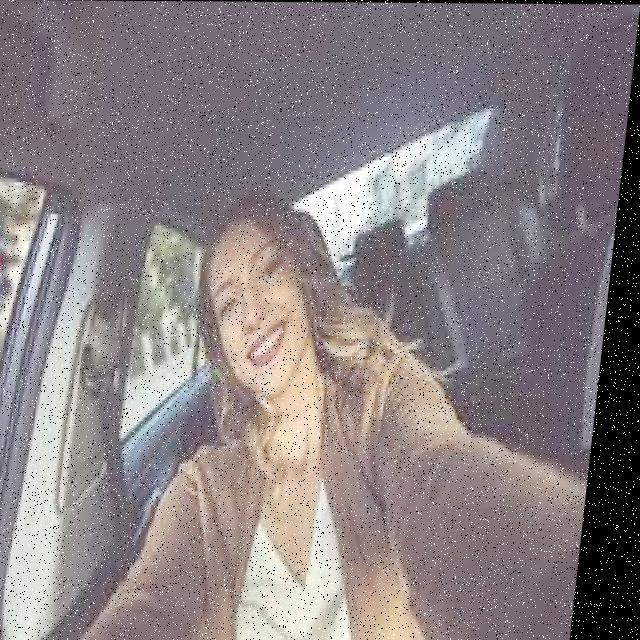noSeatbelt: (144, 336, 483, 640)
